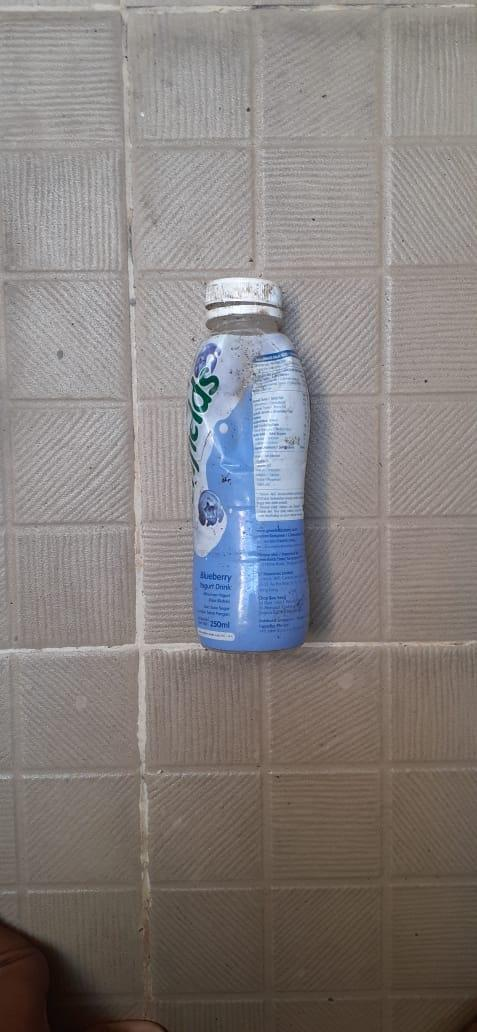Plastik: (188, 275, 312, 655)
